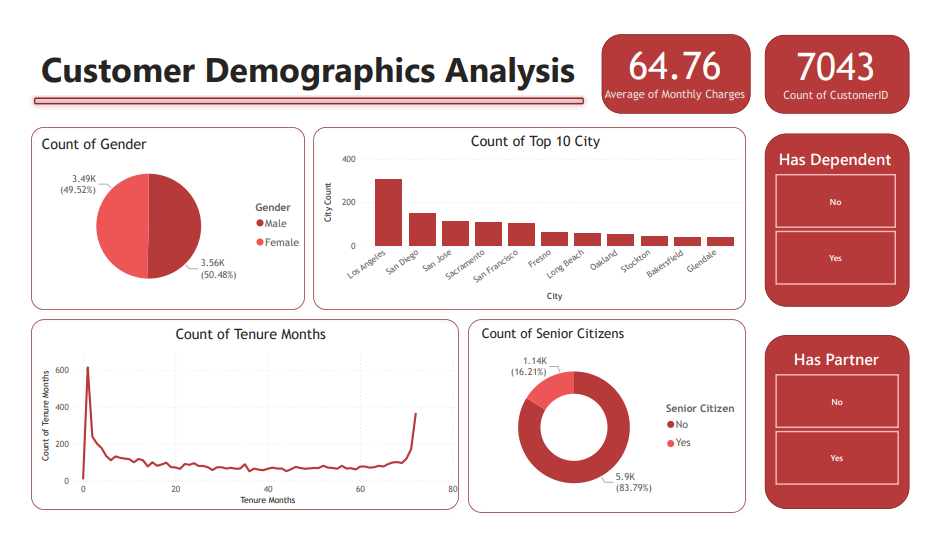

Layout of this report page (visuals, bound fields, positions):
{"tool":"powerbi","page":{"name":"Overview","canvas":[1280,720],"ordinal":0},"visuals":[{"type":"shape","box":[1057.1,451.4,204.3,244.3],"z":0},{"type":"shape","box":[1057.1,167.1,204.3,244.3],"z":1000},{"type":"shape","box":[1056.6,27.7,204.2,111],"z":2000},{"type":"shape","box":[826.7,26.6,210,112.2],"z":3000},{"type":"textbox","box":[31.7,36.7,765,76.7],"z":4000},{"type":"card","fields":{"Values":["CountNonNull(Cleaned_Vis.CustomerID)"]},"box":[1071.4,23.2,173.1,111],"z":5000},{"type":"shape","box":[16.7,421.7,615,281.7],"z":6000},{"type":"shape","box":[631.7,421.7,405,285],"z":7000},{"type":"shape","box":[415,151.7,621.7,270],"z":8000},{"type":"shape","box":[16.7,151.7,398.3,270],"z":9000},{"type":"columnChart","title":"Count of Top 10 City","fields":{"Category":["Cleaned_Vis.City"],"Y":["CountNonNull(Cleaned_Vis.City)"]},"box":[430.6,165.7,606.7,242.7],"z":10000},{"type":"pieChart","title":"Count of Gender","fields":{"Category":["Cleaned_Vis.Gender"],"Y":["CountNonNull(Cleaned_Vis.Gender)"]},"box":[33.3,170,381.7,231.7],"z":11000},{"type":"donutChart","title":"Count of Senior Citizens","fields":{"Category":["Cleaned_Vis.Senior Citizen"],"Y":["CountNonNull(Cleaned_Vis.Senior Citizen)"]},"box":[653.3,436.7,383.3,266.7],"z":12000},{"type":"lineChart","title":"Count of Tenure Months","fields":{"Category":["Cleaned_Vis.Tenure Months"],"Y":["CountNonNull(Cleaned_Vis.Tenure Months)"]},"box":[33.3,436.7,598.3,258.3],"z":13000},{"type":"card","fields":{"Values":["Avg(Cleaned_Vis.Monthly Charges)"]},"box":[823.3,19.4,215,115],"z":14000},{"type":"slicer","title":"Has Partner","fields":{"Values":["Cleaned_Vis.Partner"]},"box":[1045.7,468.6,224.3,200],"z":15000},{"type":"slicer","title":"Has Dependent","fields":{"Values":["Cleaned_Vis.Dependents"]},"box":[1045.7,187.1,220,200],"z":16000},{"type":"shape","box":[18.9,108.9,790,25.6],"z":17001}]}

Visuals, with their boxes in screenshot pixels (x1, y1, x2, y2), scaled from the page's 1280x720 canvas onto the 939x541 screenshot:
shape: left=775, top=339, right=925, bottom=523
shape: left=775, top=126, right=925, bottom=309
shape: left=775, top=21, right=925, bottom=104
shape: left=606, top=20, right=761, bottom=104
textbox: left=23, top=28, right=584, bottom=85
card - CountNonNull(Cleaned_Vis.CustomerID): left=786, top=17, right=913, bottom=101
shape: left=12, top=317, right=463, bottom=529
shape: left=463, top=317, right=761, bottom=531
shape: left=304, top=114, right=761, bottom=317
shape: left=12, top=114, right=304, bottom=317
"Count of Top 10 City" columnChart: left=316, top=125, right=761, bottom=307
"Count of Gender" pieChart: left=24, top=128, right=304, bottom=302
"Count of Senior Citizens" donutChart: left=479, top=328, right=760, bottom=529
"Count of Tenure Months" lineChart: left=24, top=328, right=463, bottom=522
card - Avg(Cleaned_Vis.Monthly Charges): left=604, top=15, right=762, bottom=101
"Has Partner" slicer: left=767, top=352, right=932, bottom=502
"Has Dependent" slicer: left=767, top=141, right=929, bottom=291
shape: left=14, top=82, right=593, bottom=101
